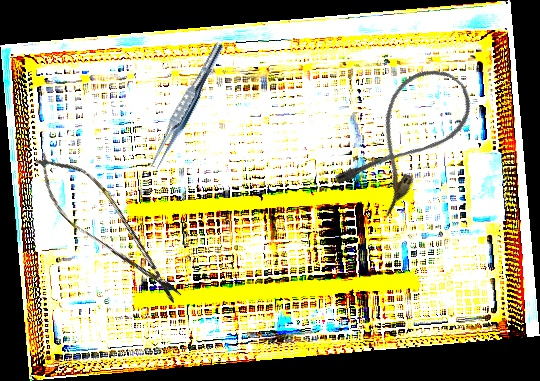Cannula: (329, 52, 485, 223)
Micro Scissor: (21, 140, 197, 315)
Tissue Forceps: (145, 38, 228, 175)
